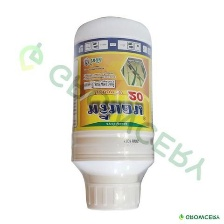insecticide: (68, 13, 155, 214)
